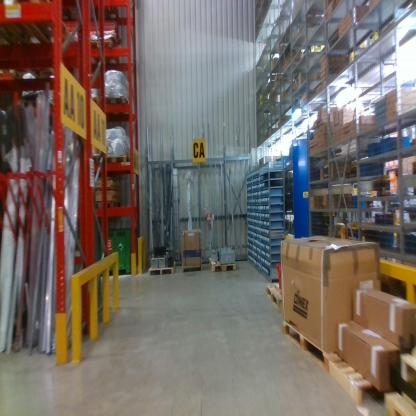pallet: (4, 1, 77, 61), (284, 314, 342, 378), (331, 357, 395, 406), (379, 374, 415, 414), (398, 340, 416, 396), (104, 90, 134, 123), (85, 39, 120, 67), (264, 280, 294, 311), (101, 150, 135, 176), (207, 251, 240, 274), (90, 2, 122, 21), (148, 258, 178, 278), (179, 260, 204, 276)
